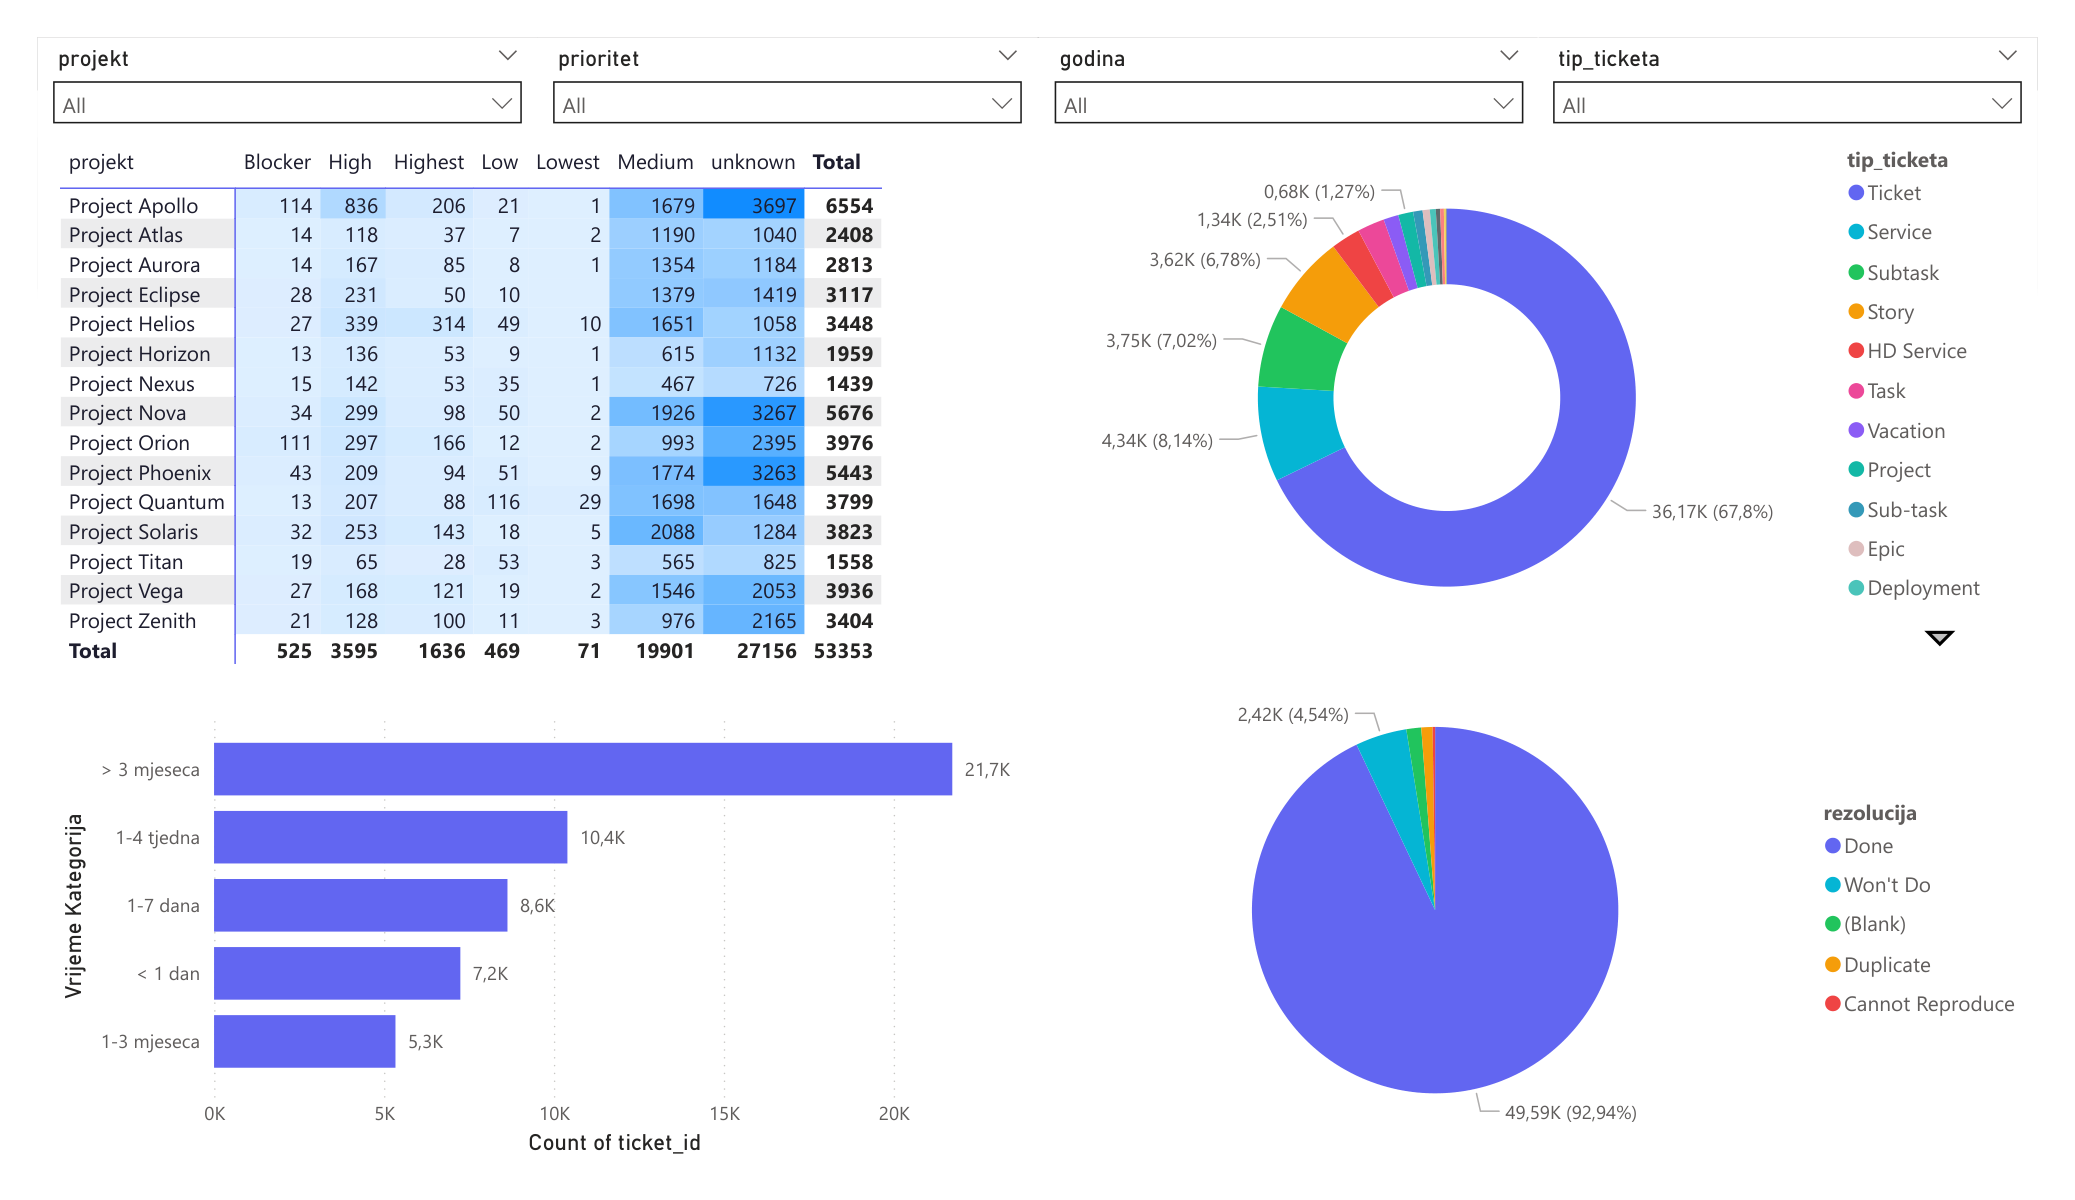

The dashboard page shown, as its layout file describes it:
{"tool":"powerbi","page":{"name":"Distribucija","canvas":[1280,720],"ordinal":2},"visuals":[{"type":"pivotTable","fields":{"Rows":["Query1.projekt"],"Columns":["Query1.prioritet"],"Values":["CountNonNull(Query1.ticket_id)"]},"box":[10.1,64.3,630.4,356.4],"z":0},{"type":"barChart","fields":{"Y":["CountNonNull(Query1.ticket_id)"],"Category":["Query1.Vrijeme Kategorija"]},"box":[10.1,420.7,630.4,298.9],"z":1000},{"type":"donutChart","fields":{"Category":["Query1.tip_ticketa"],"Y":["CountNonNull(Query1.ticket_id)"]},"box":[640.6,64.3,639.4,332.7],"z":2000},{"type":"pieChart","fields":{"Category":["Query1.rezolucija"],"Y":["CountNonNull(Query1.ticket_id)"]},"box":[640.6,397,639.4,322.5],"z":3000},{"type":"slicer","fields":{"Values":["Query1.tip_ticketa"]},"box":[960,0,320,64.2],"z":4000},{"type":"slicer","fields":{"Values":["Query1.godina"]},"box":[640.6,0,320.3,64.3],"z":5000},{"type":"slicer","fields":{"Values":["Query1.prioritet"]},"box":[320,0,320,64.2],"z":6000},{"type":"slicer","fields":{"Values":["Query1.projekt"]},"box":[0,0,320,64.2],"z":7000}]}

Visuals, with their boxes on the page's 1280x720 design canvas (x1, y1, x2, y2). These are canvas units, not pixel positions in the 2075x1200 screenshot, which may show the page scaled, cropped or inside an application window:
pivotTable - Query1.projekt x Query1.prioritet: <region>10, 64, 640, 421</region>
barChart - CountNonNull(Query1.ticket_id) x Query1.Vrijeme Kategorija: <region>10, 421, 640, 720</region>
donutChart - Query1.tip_ticketa x CountNonNull(Query1.ticket_id): <region>641, 64, 1280, 397</region>
pieChart - Query1.rezolucija x CountNonNull(Query1.ticket_id): <region>641, 397, 1280, 720</region>
slicer - Query1.tip_ticketa: <region>960, 0, 1280, 64</region>
slicer - Query1.godina: <region>641, 0, 961, 64</region>
slicer - Query1.prioritet: <region>320, 0, 640, 64</region>
slicer - Query1.projekt: <region>0, 0, 320, 64</region>
